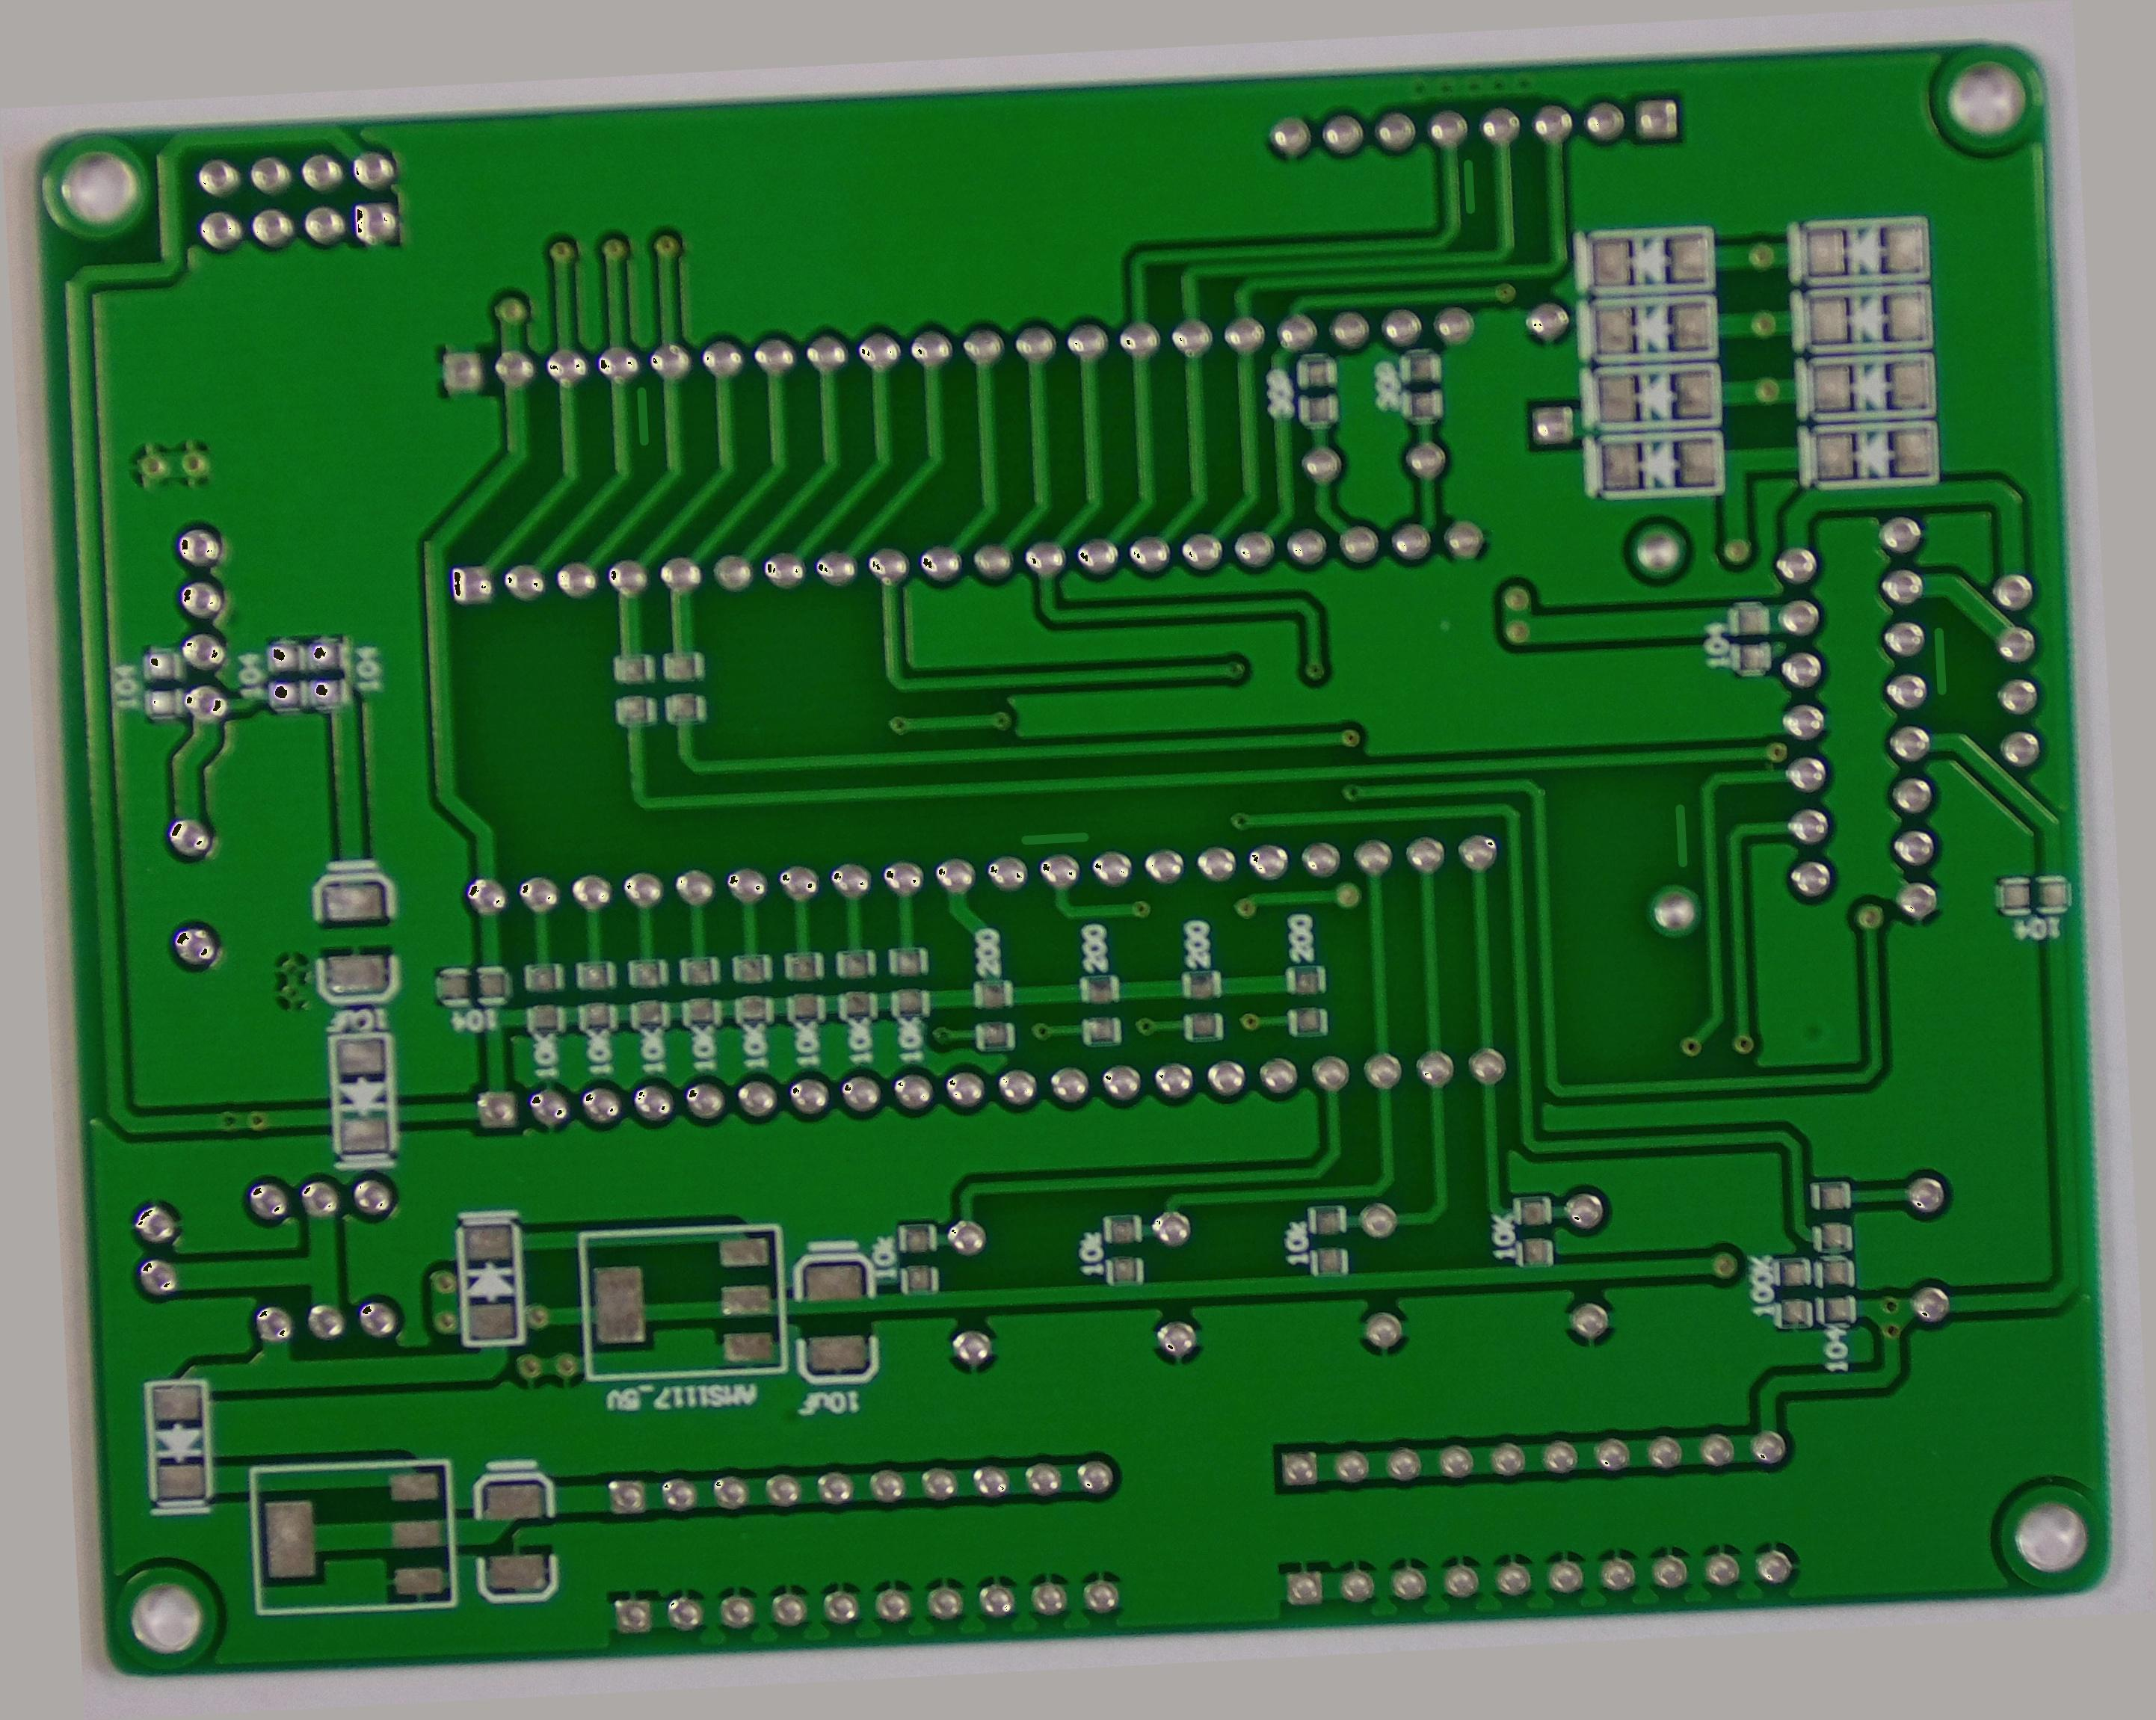spurious_copper: (1006, 816, 1099, 862), (1917, 616, 1966, 702), (1661, 793, 1703, 872), (620, 383, 665, 451), (1450, 151, 1487, 225)
